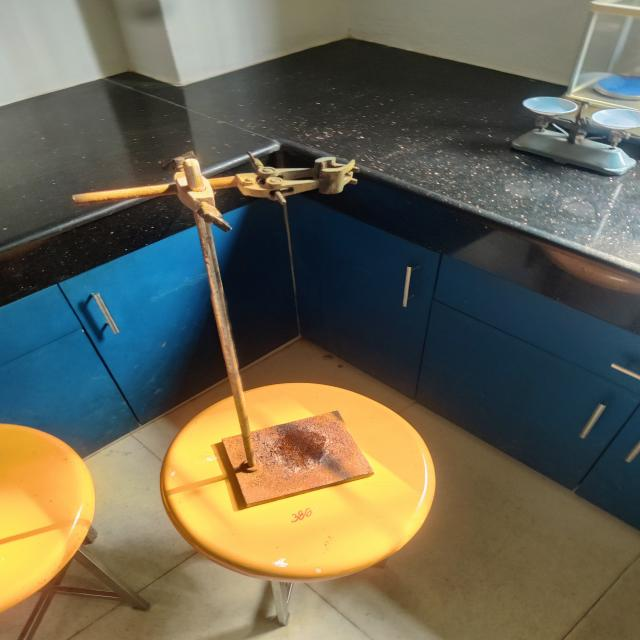Burette_Stands: (29, 143, 442, 516)
